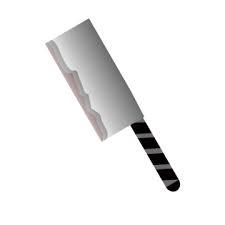Knife: (44, 17, 180, 191)
